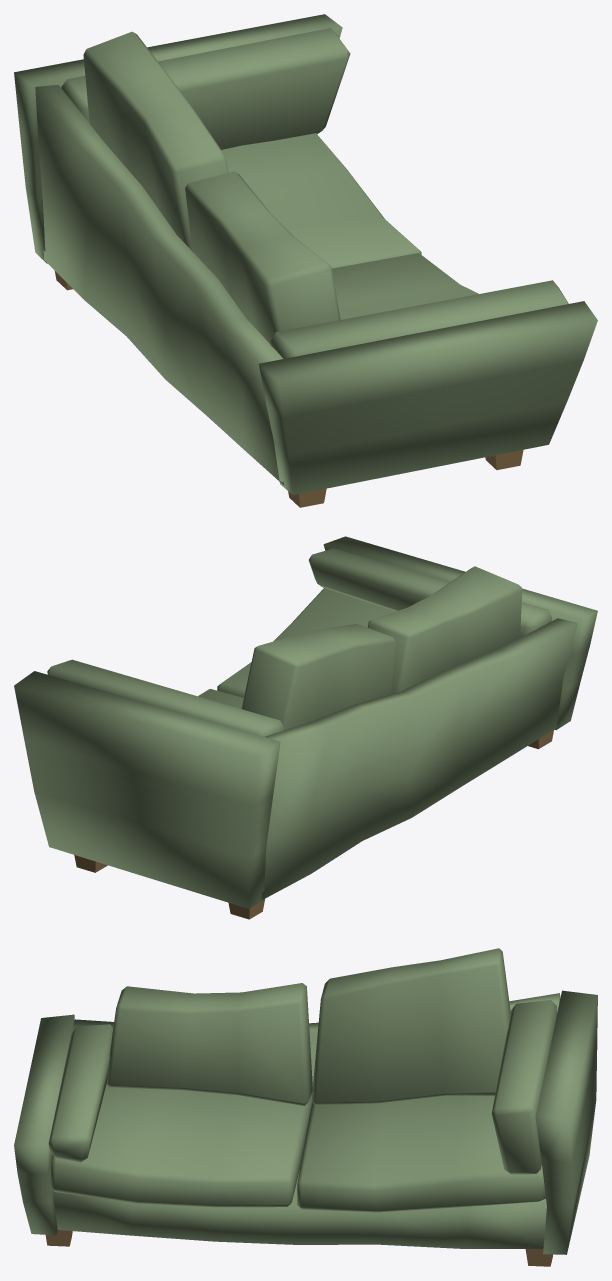
File: Couch.fbx
3 renders of one model, top to bottom at view 1: azimuth 30°, elevation 25°; view 2: azimuth 150°, elevation 25°; view 3: azimuth 270°, elevation 25°, orthographic. The views are drawn at different scales.
Parts seen in each view (by area): view 1: Cube.012; view 2: Cube.012; view 3: Cube.012.
Boxes of the visible parts, box(x1,y1,x2,y2) form: Cube.012: box(14, 14, 597, 507); Cube.012: box(14, 536, 597, 919); Cube.012: box(14, 948, 597, 1266).
Size of the model in its own units: 115 by 84.4 by 192.
